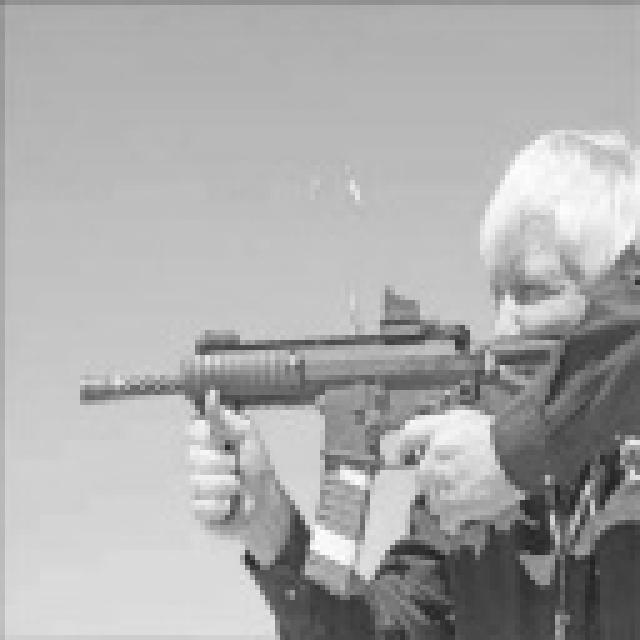Rifle: (28, 273, 620, 615)
